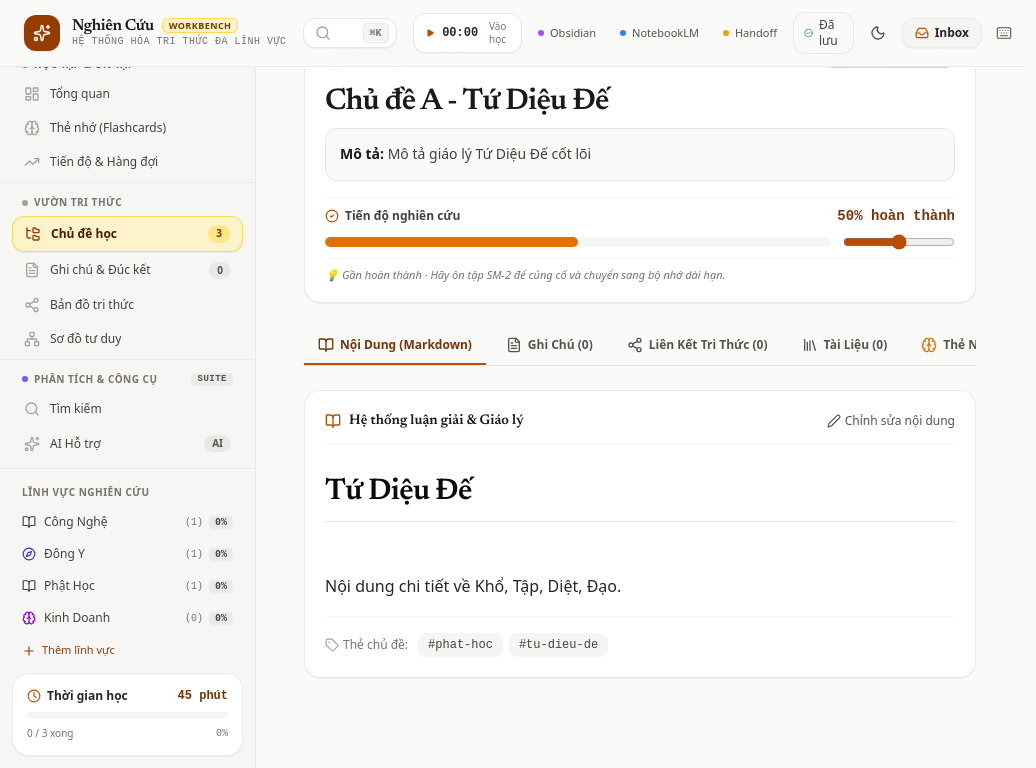
Test: Sidebar Category Navigation Integration Tests (Test-First) › Scenario 2: Chọn lĩnh vực không có chủ đề
(page scrolled)
Expected: the heading "Chủ đề A - Tứ Diệu Đế" is shown, x1=325 y1=87 x2=609 y2=117
Click the button "Kinh Doanh (0) 0%": (128, 618) x1=12 y1=604 x2=243 y2=632
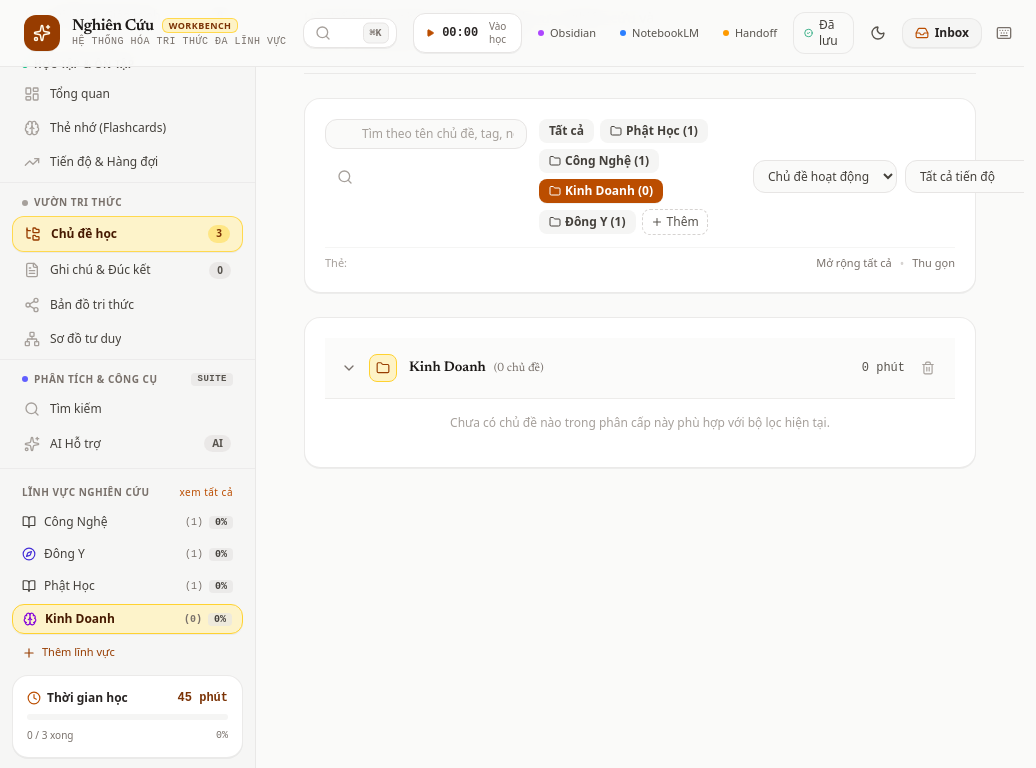
Expected: the heading "Chủ đề A - Tứ Diệu Đế" is gone
Expected: the text "Chưa có chủ đề nào trong phân cấp này phù hợp với bộ lọc hiện tại" is shown, x1=450 y1=414 x2=830 y2=430
Expected: the text "Mô tả giáo lý Tứ Diệu Đế cốt lõi" is gone
